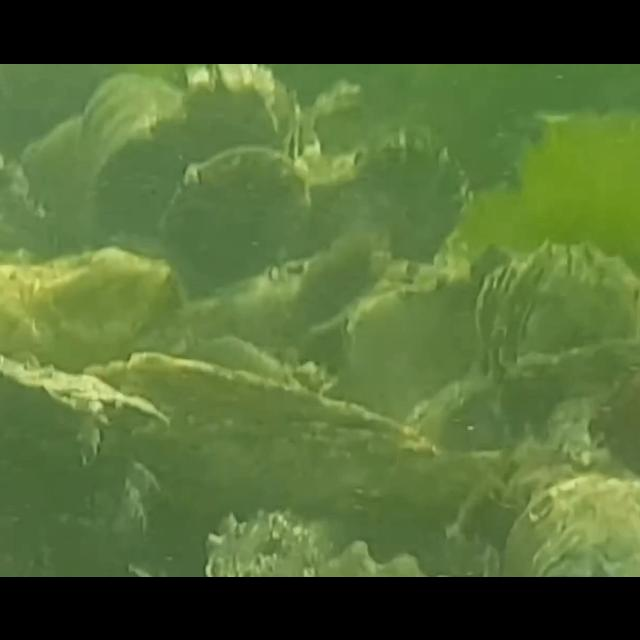Oyster-Closed: (80, 348, 434, 502), (406, 333, 640, 457), (164, 142, 316, 298), (1, 244, 188, 370), (474, 237, 640, 377), (340, 275, 480, 423), (353, 124, 475, 266), (0, 351, 166, 454), (204, 506, 432, 576), (497, 472, 640, 576)
